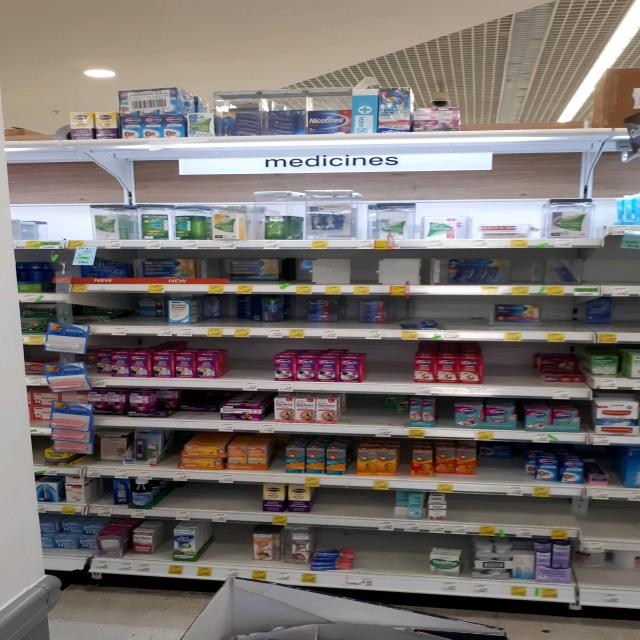void: (553, 75, 601, 143), (505, 75, 551, 143), (462, 76, 504, 141), (32, 88, 68, 148), (585, 254, 640, 292), (448, 296, 489, 342), (0, 86, 30, 148), (45, 206, 89, 247), (394, 535, 425, 592), (544, 298, 584, 341), (359, 534, 389, 591), (482, 343, 514, 396), (342, 395, 380, 435), (350, 490, 388, 530), (354, 258, 392, 296), (10, 206, 45, 247), (193, 480, 229, 519), (158, 478, 191, 520), (245, 340, 272, 390), (363, 344, 390, 393), (394, 255, 426, 295), (392, 342, 416, 394), (314, 487, 346, 526), (228, 530, 252, 581), (510, 248, 542, 286), (204, 528, 227, 580), (220, 340, 243, 390), (230, 482, 260, 520), (584, 506, 609, 550), (320, 258, 352, 292), (514, 344, 534, 396), (533, 498, 559, 537), (615, 507, 638, 550), (560, 500, 584, 540), (509, 498, 532, 536), (479, 497, 504, 531), (453, 496, 473, 535)
